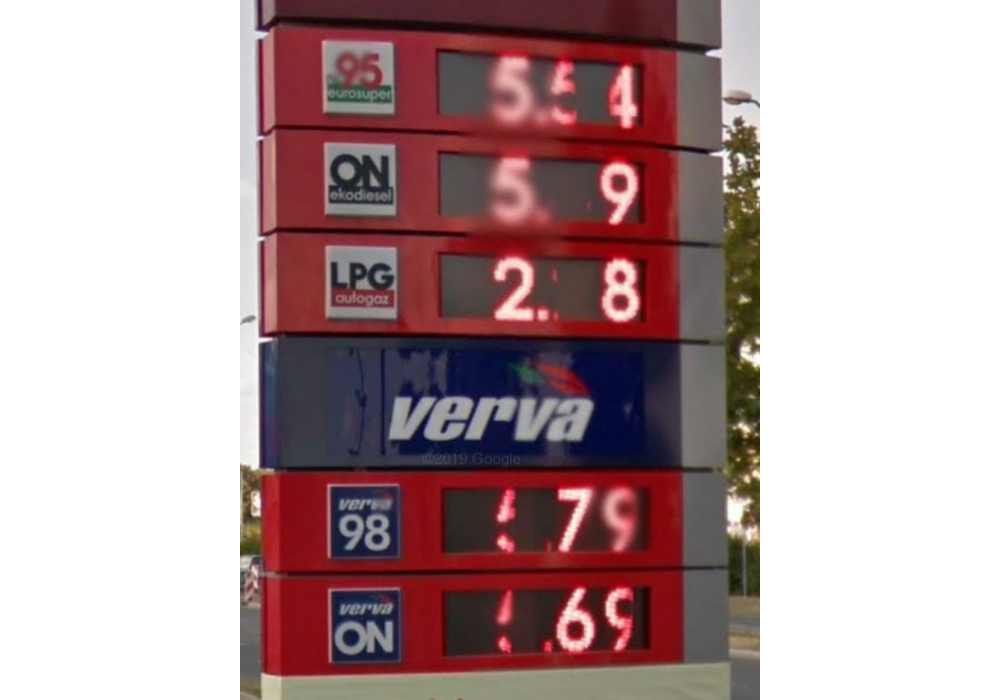LPG: (318, 242, 401, 323)
ON: (319, 138, 398, 221), (325, 588, 404, 664)
PB95: (317, 37, 398, 118)
PB98: (324, 482, 400, 559)
